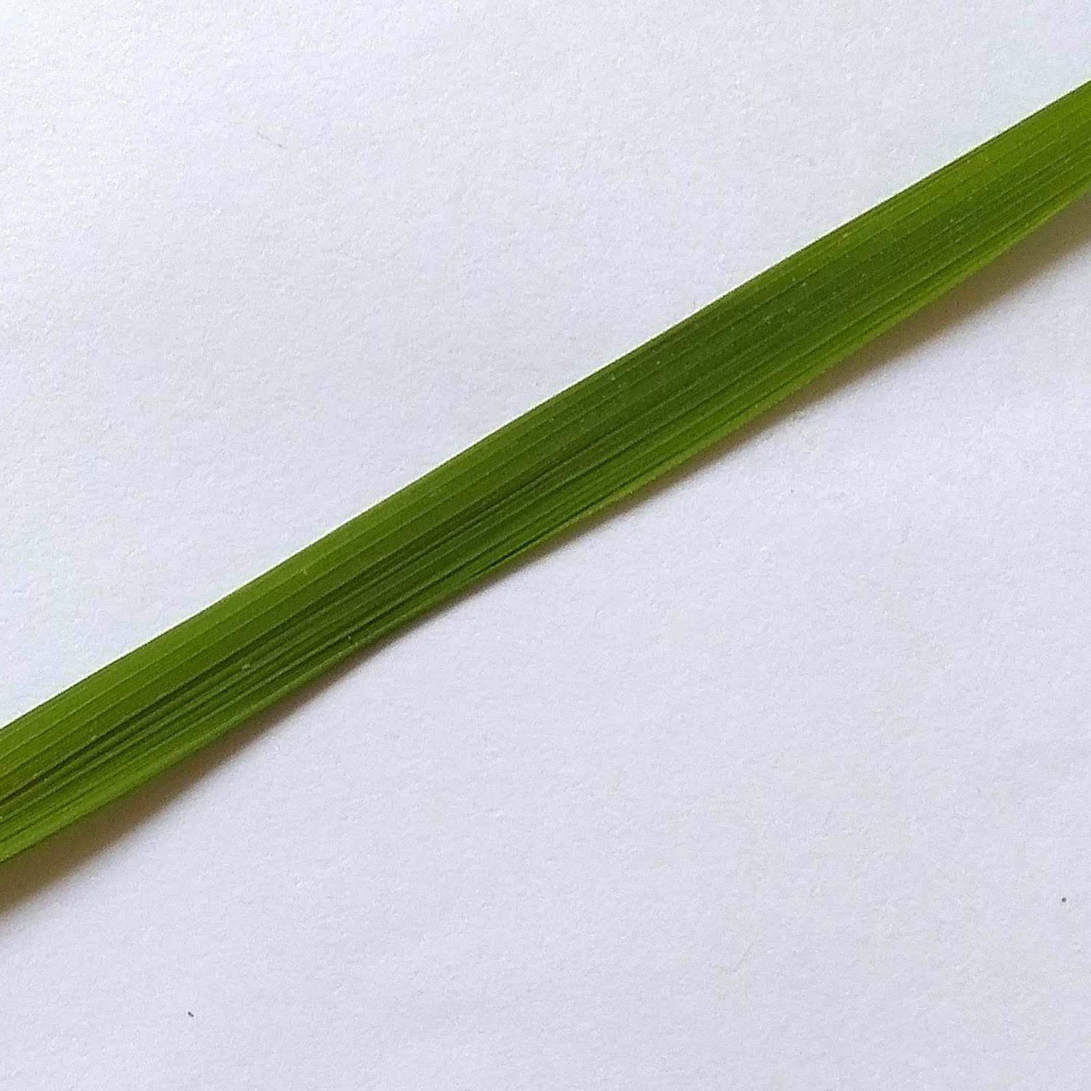Healthy: (0, 82, 1090, 861)
